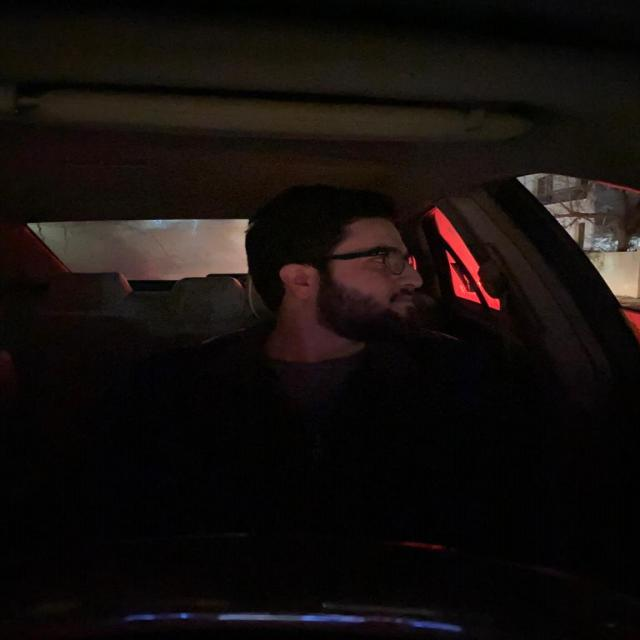LeftRight: (237, 180, 438, 375)
